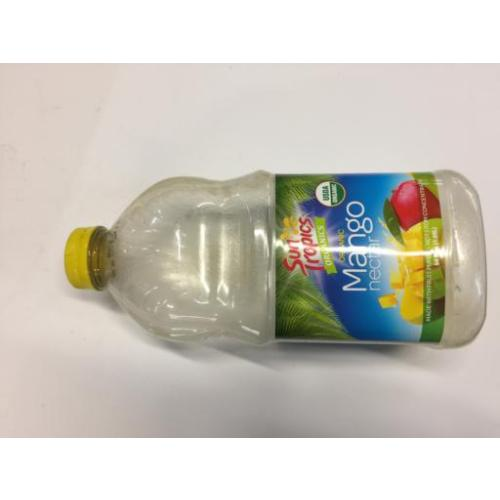plastic: (69, 168, 486, 357)
